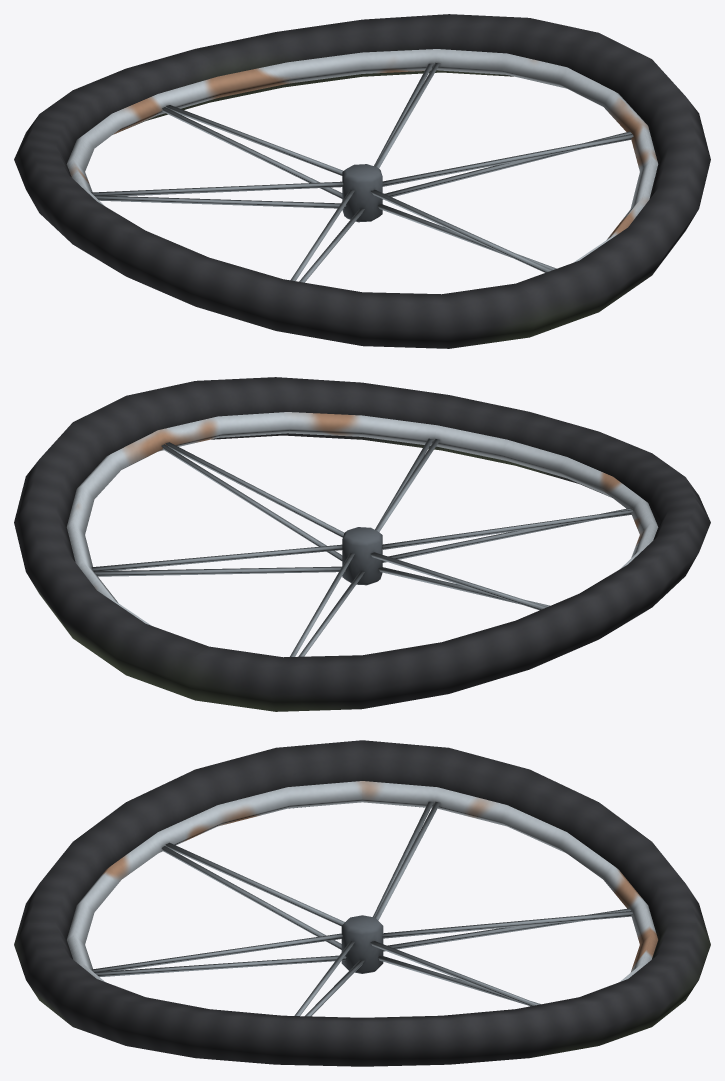
The model's file is Rueda_Bici.fbx.
3 renders of one model, top to bottom at view 1: azimuth 30°, elevation 25°; view 2: azimuth 150°, elevation 25°; view 3: azimuth 270°, elevation 25°, orthographic.
Visible parts, largest first — view 1: Malla; view 2: Malla; view 3: Malla.
Boxes of the visible parts, left/top/right/bottom form: Malla: left=14, top=14, right=710, bottom=348; Malla: left=14, top=377, right=710, bottom=711; Malla: left=14, top=740, right=710, bottom=1066.
Bounding box in the file's own units: 1 × 0.135 × 1.
Materials: 1 (1 with a texture image).
